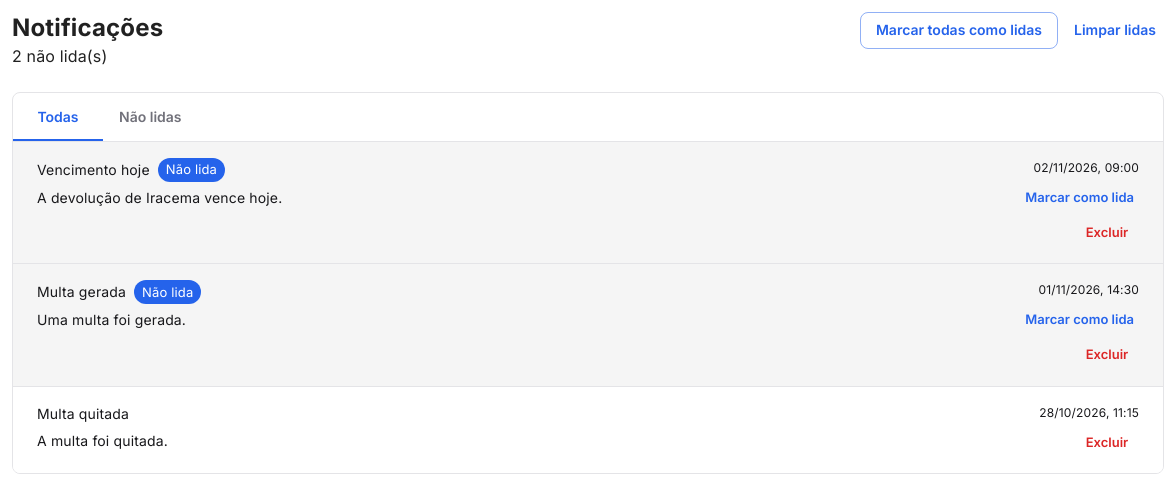
Scenario: volta a mostrar todas as notificações ao selecionar Todas
The width and height of the screenshot is (1176, 491).
Step 1. Click the tab "Não lidas" → [150, 117], box 103,93 -> 198,141
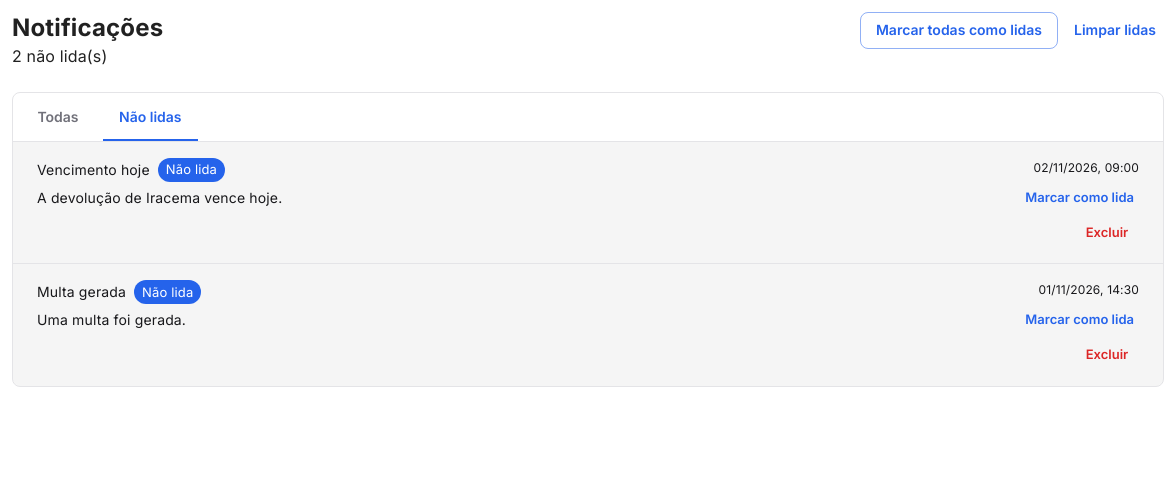
Step 2. Click the tab "Todas" → [58, 117], box 13,93 -> 103,141
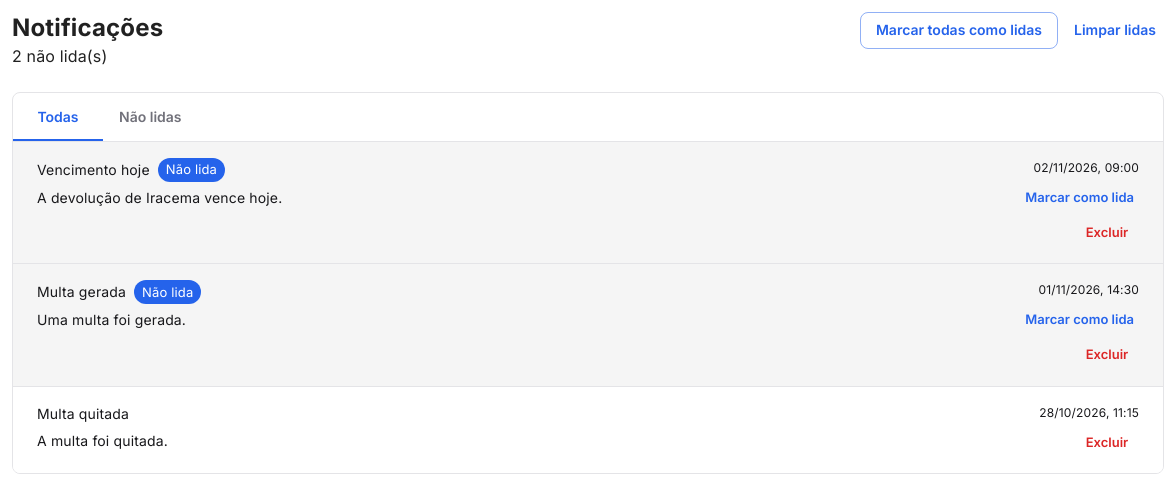
Check: the text "A multa foi quitada." is shown, box 37,431 -> 168,451
